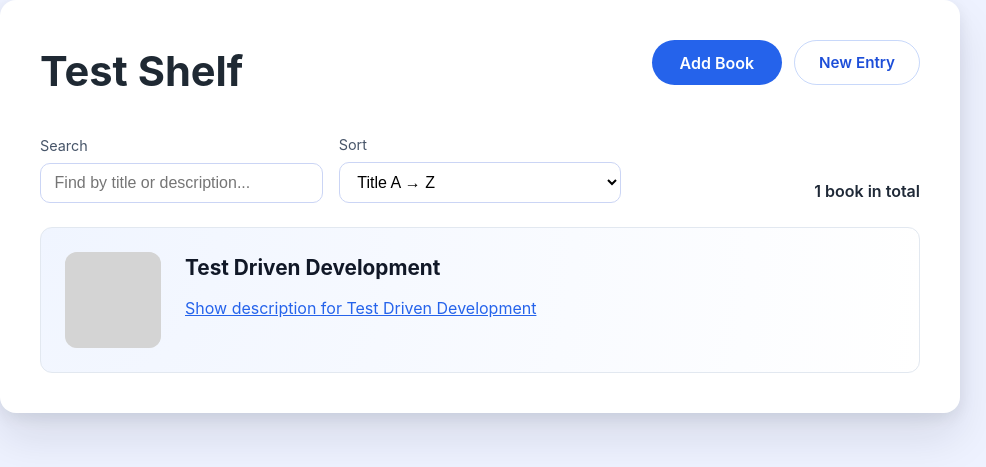
Test: BookList › reveals the description for a book when toggled
Expected: the text "A book about writing tests before production code." is not shown
What coordinates should you click on to do the following:
click the button "Show description for Test Driven Development"
I would click on:
 (361, 308)
Its box is [185,296,536,320].
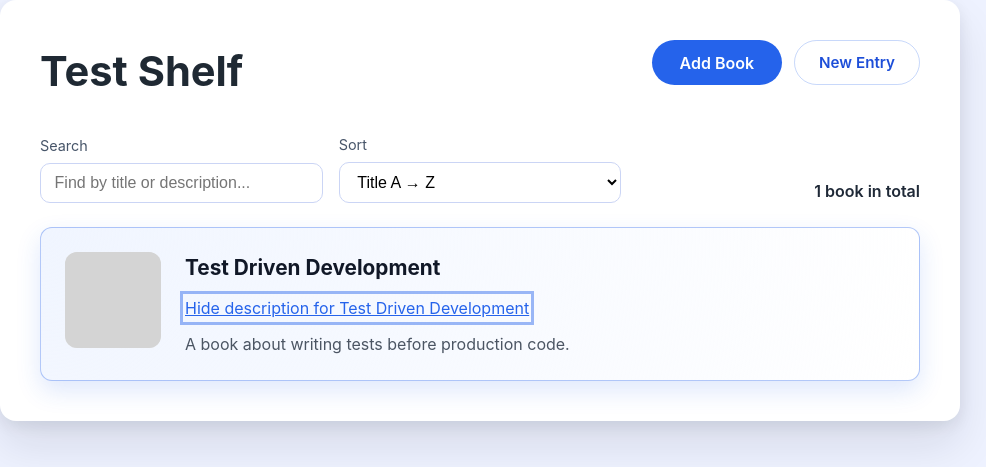
Now the text "A book about writing tests before production code." is shown, box [185,334,570,354]
